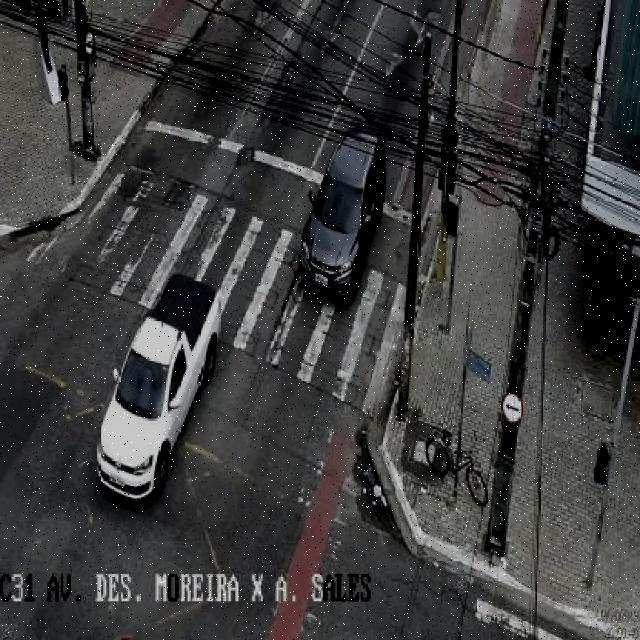Car: (295, 128, 390, 312)
Cycle: (421, 429, 494, 506)
Truck: (91, 270, 228, 509)
